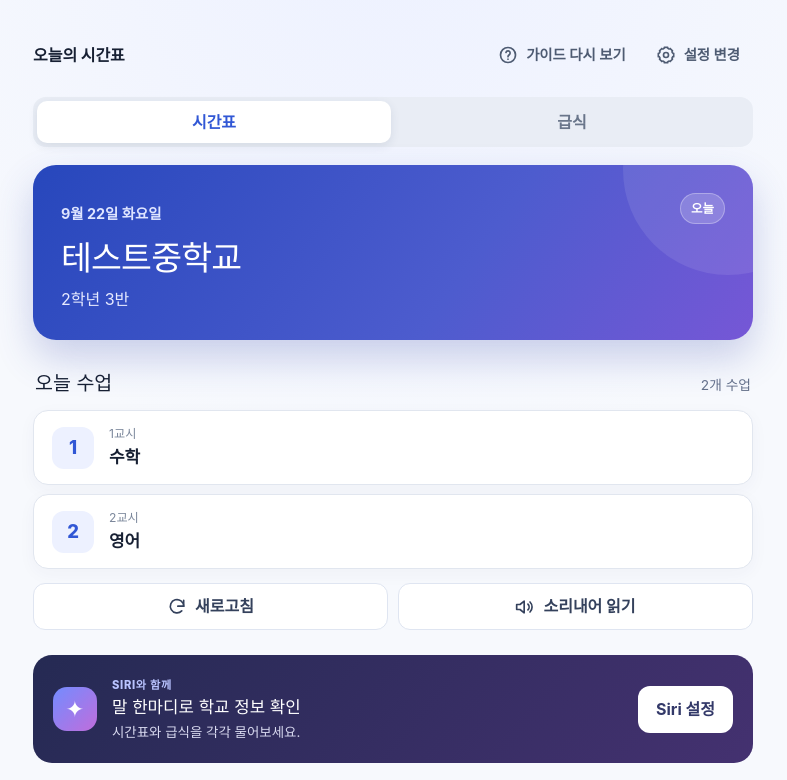
Scenario: HomePage › opens settings editing and can cancel without losing the saved settings
The image size is (787, 780).
Click the button "설정 변경" at (698, 55), box [643,32,753,78]
(page scrolled)
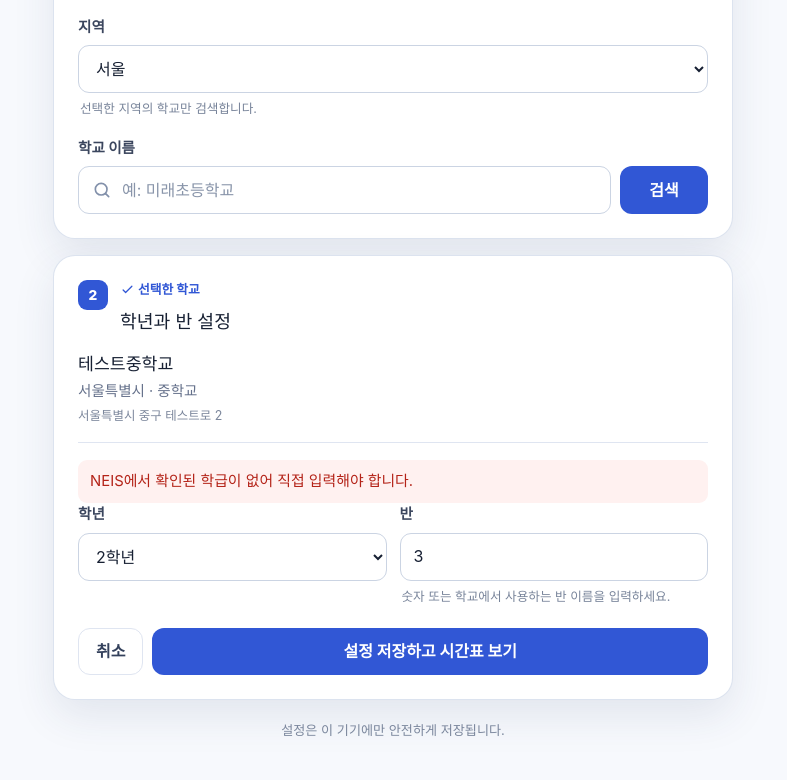
Expected: the heading "테스트중학교" is shown, [78,353,173,374]
Click the button "취소" at (111, 652), box [78,628,144,675]
(page scrolled)
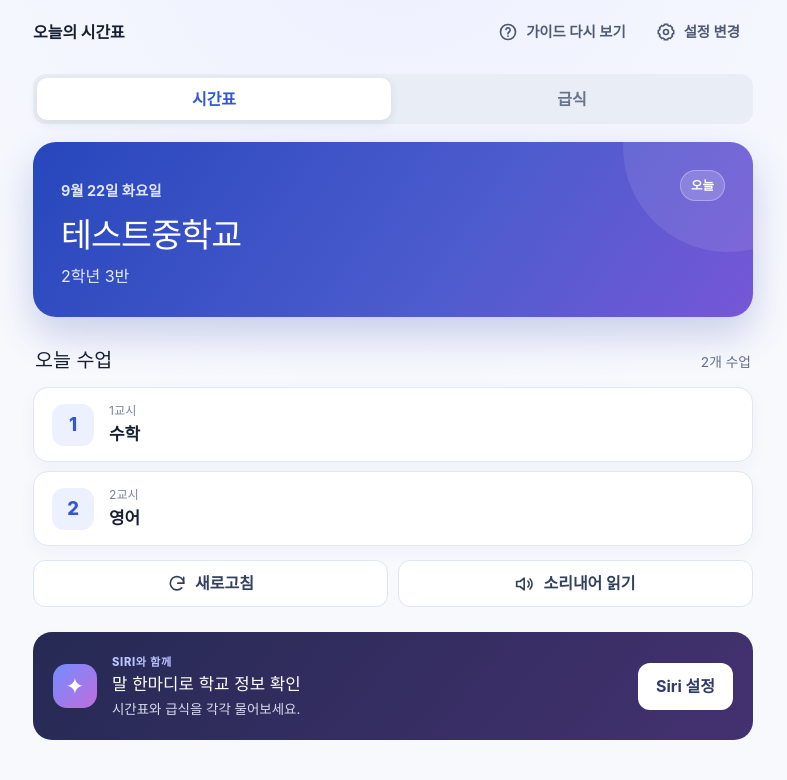
Expected: the heading "오늘 수업" is shown, [35,345,112,375]
